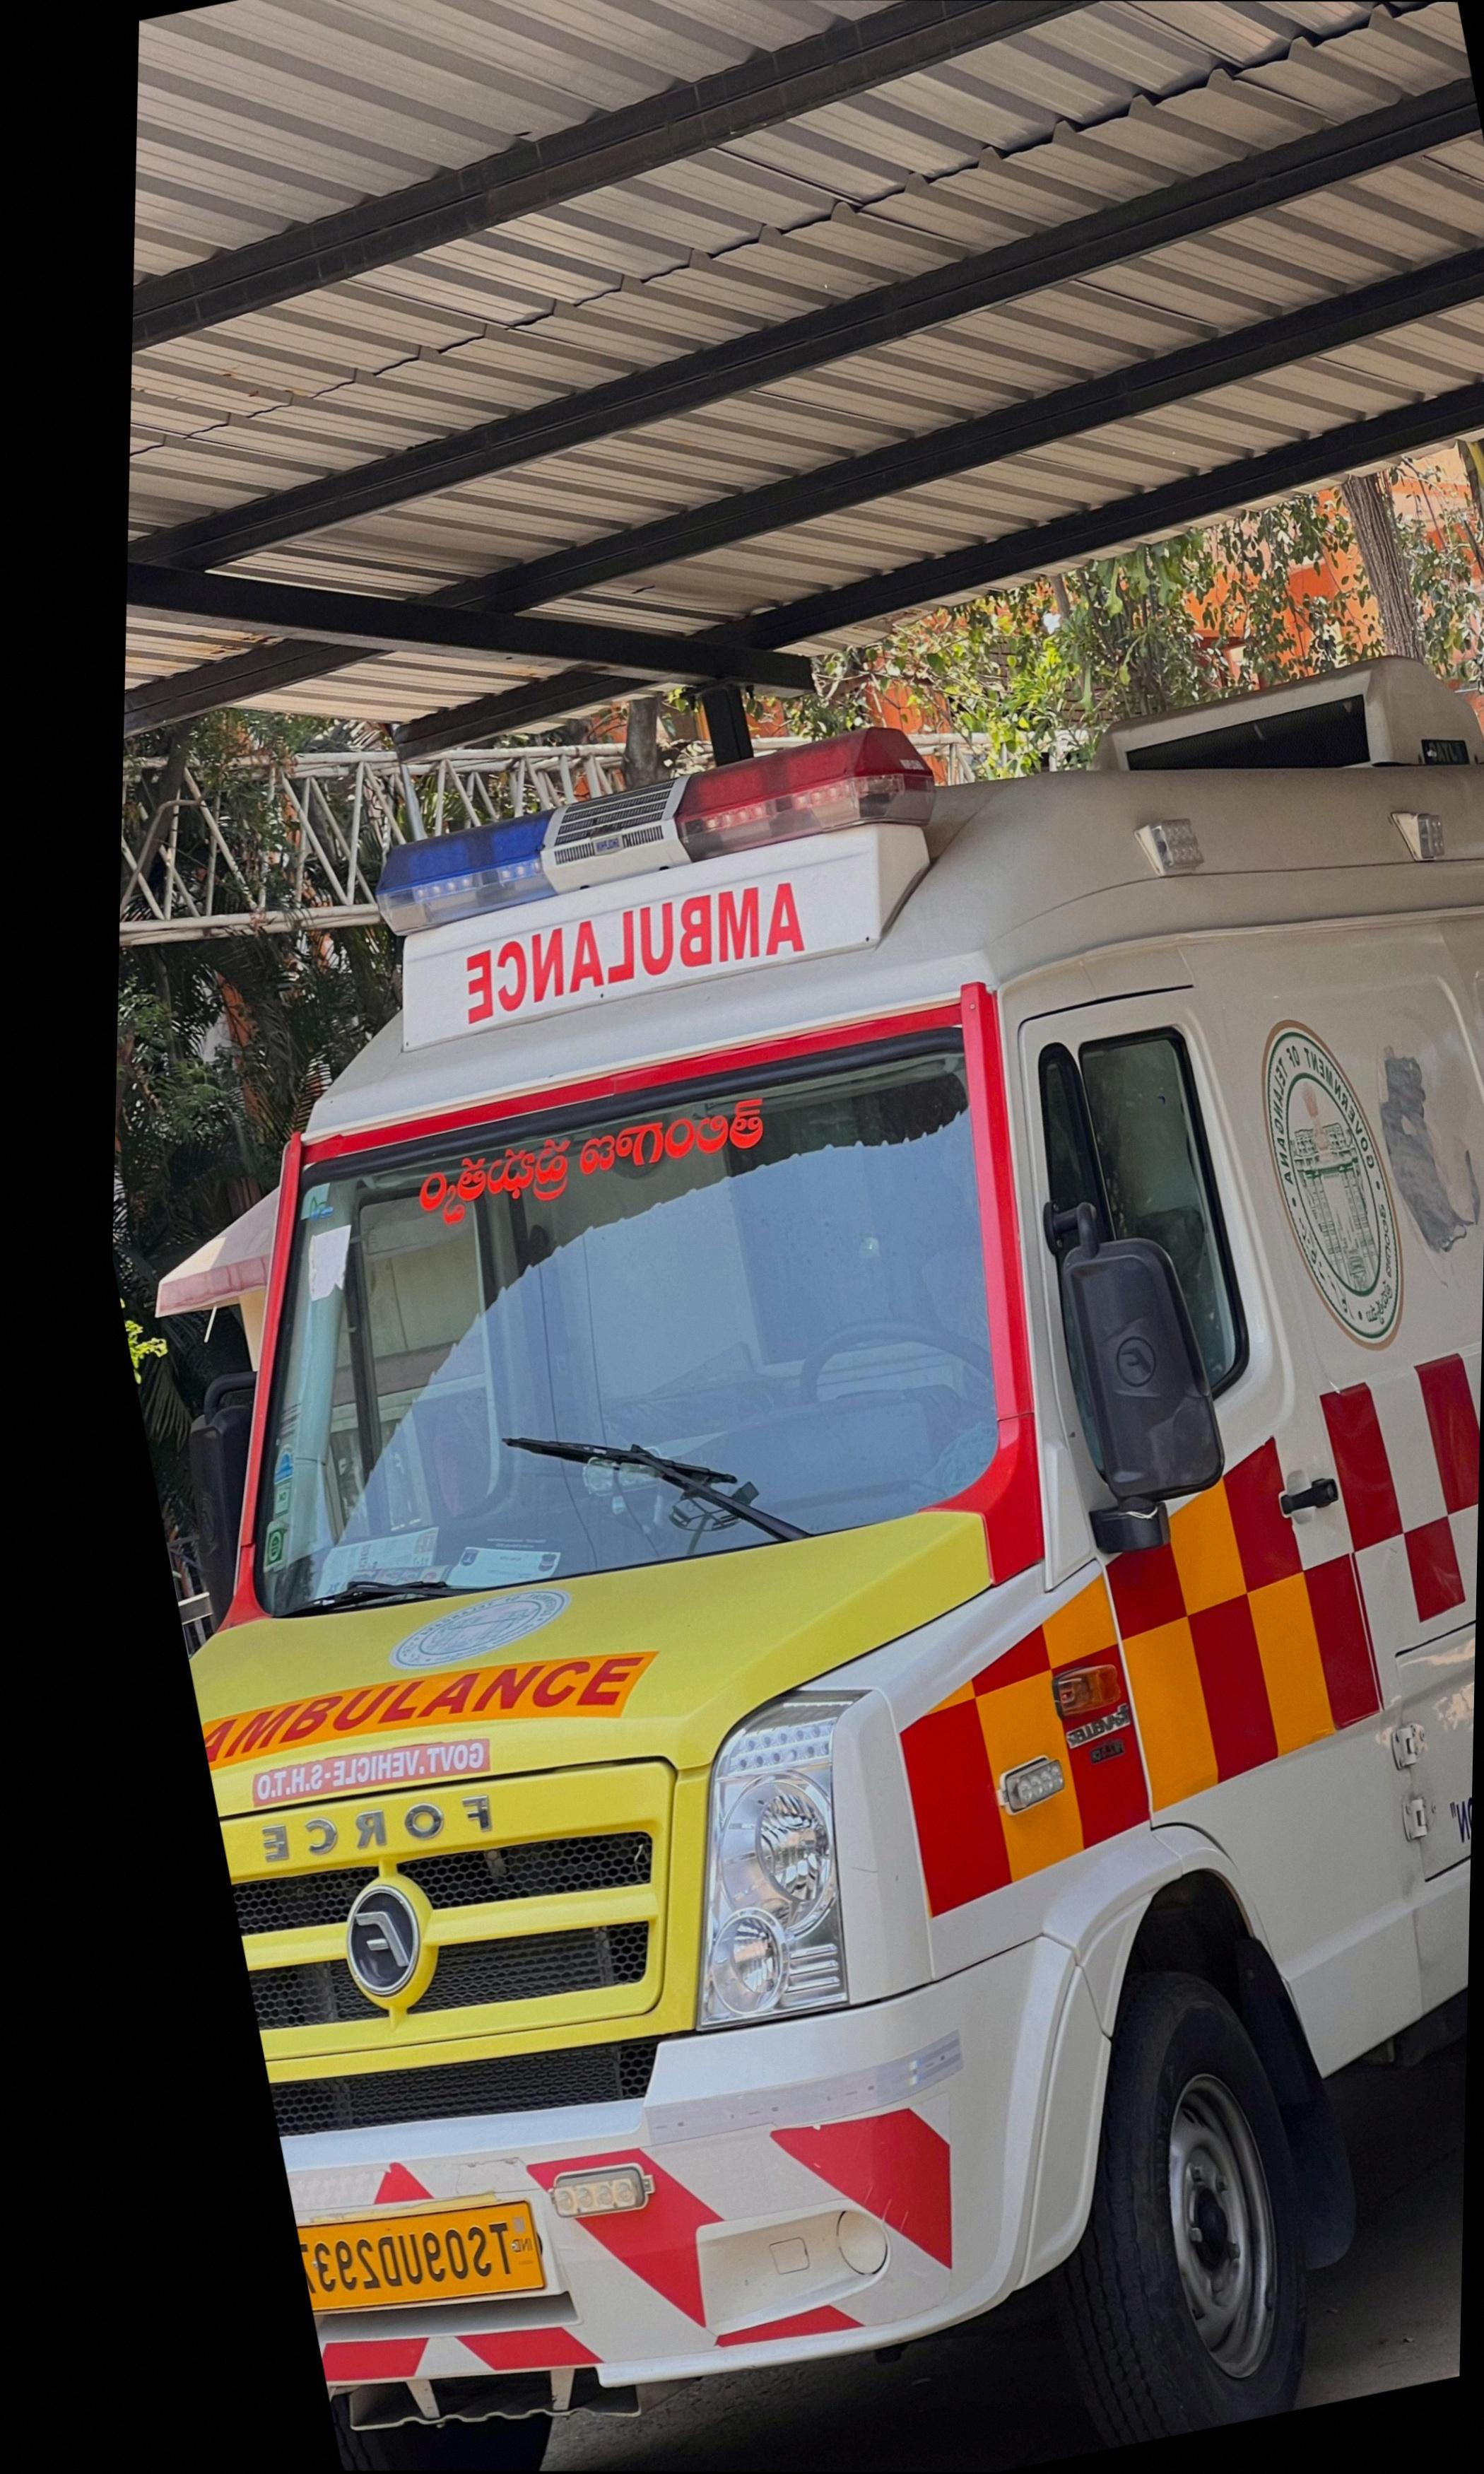ambulance: (148, 744, 1484, 2474)
